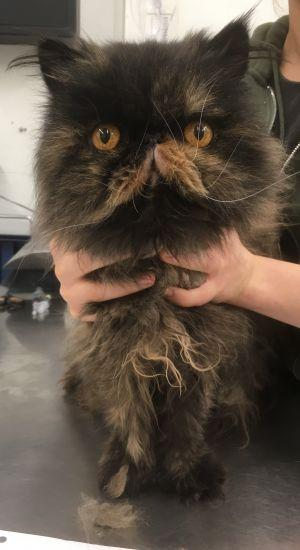persian: (24, 1, 294, 264)
